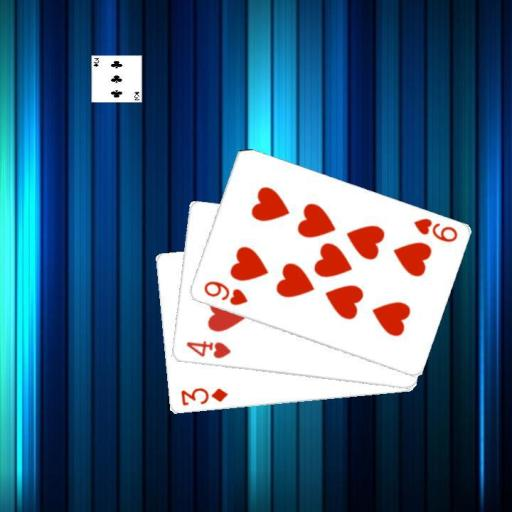3D: (177, 385, 229, 408)
4H: (183, 338, 232, 361)
9H: (200, 278, 249, 307), (410, 215, 459, 244)
